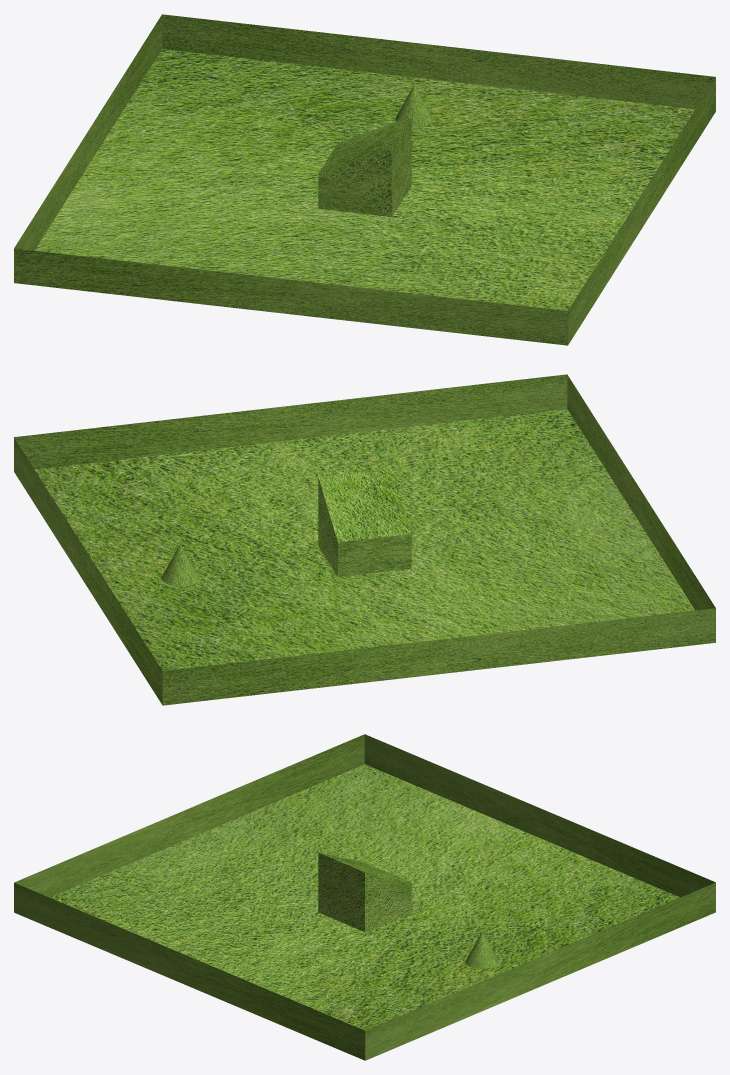
File: terrain_test3.obj
The picture shows the model from 3 angles, top to bottom: view 1: azimuth 30°, elevation 25°; view 2: azimuth 150°, elevation 25°; view 3: azimuth 270°, elevation 25°; orthographic projection. The views are drawn at different scales.
Visible parts, largest first — view 1: ground_Plane, wall.001_Plane.002, wall.003_Plane.004, block_Cube.001, wall.002_Plane.003, wall_Plane.001, Cone; view 2: ground_Plane, wall_Plane.001, wall.002_Plane.003, block_Cube.001, wall.003_Plane.004, wall.001_Plane.002, Cone; view 3: ground_Plane, wall.002_Plane.003, wall.003_Plane.004, wall_Plane.001, wall.001_Plane.002, block_Cube.001, Cone.
Part boxes in pixels (x1,y1,x2,y2): ground_Plane: [34, 49, 695, 310]; wall.001_Plane.002: [14, 248, 567, 345]; wall.003_Plane.004: [162, 14, 715, 109]; block_Cube.001: [318, 116, 411, 216]; wall.002_Plane.003: [568, 77, 715, 344]; wall_Plane.001: [14, 15, 161, 250]; Cone: [395, 85, 433, 127]; ground_Plane: [34, 409, 695, 670]; wall_Plane.001: [162, 608, 715, 705]; wall.002_Plane.003: [14, 374, 567, 469]; block_Cube.001: [318, 468, 411, 576]; wall.003_Plane.004: [14, 437, 162, 704]; wall.001_Plane.002: [567, 375, 715, 610]; Cone: [161, 544, 199, 586]; ground_Plane: [50, 764, 679, 1030]; wall.002_Plane.003: [14, 882, 365, 1060]; wall.003_Plane.004: [365, 882, 715, 1060]; wall_Plane.001: [364, 734, 715, 897]; wall.001_Plane.002: [14, 734, 364, 897]; block_Cube.001: [318, 852, 411, 931]; Cone: [465, 932, 498, 968].
Bounding box in the file's own units: 42.43 × 4 × 42.43.
1 material, 1 textured.
